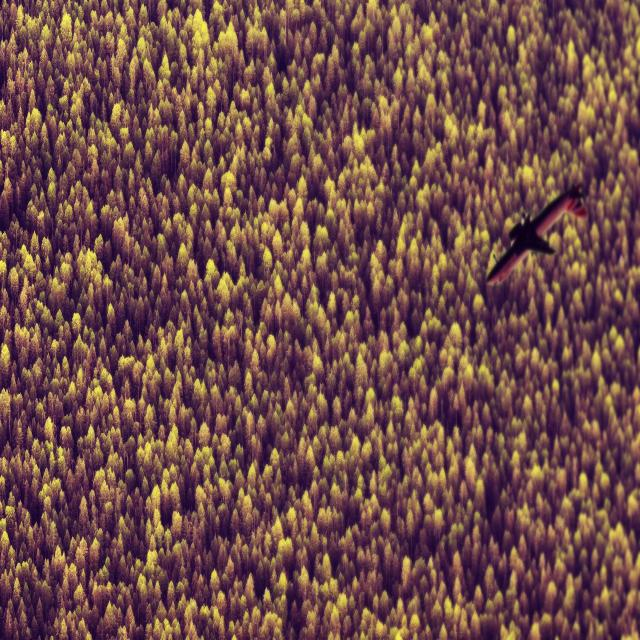airplane: (486, 182, 588, 286)
